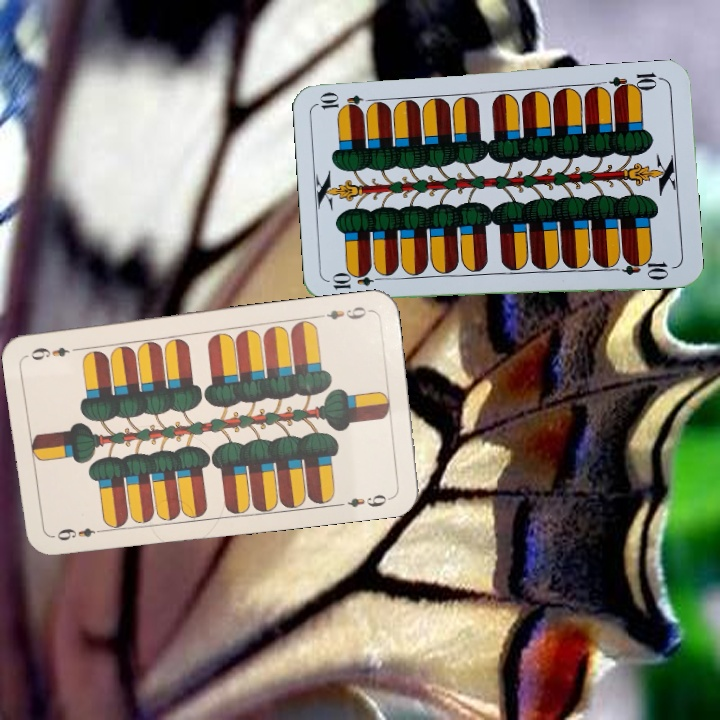E10: (606, 68, 665, 97), (328, 271, 387, 292)
E9: (314, 302, 373, 323), (47, 523, 106, 544)
